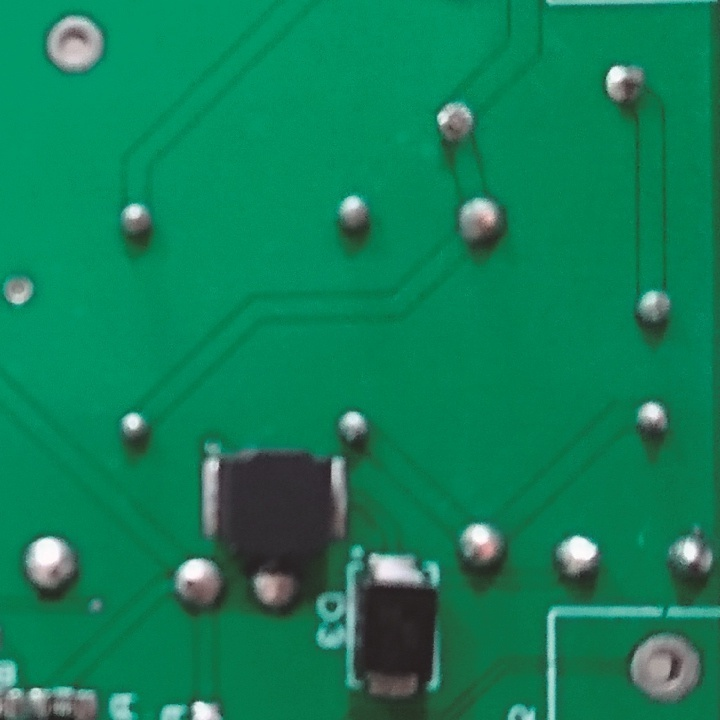F: (622, 628, 706, 707), (36, 12, 110, 78), (1, 269, 41, 315)
